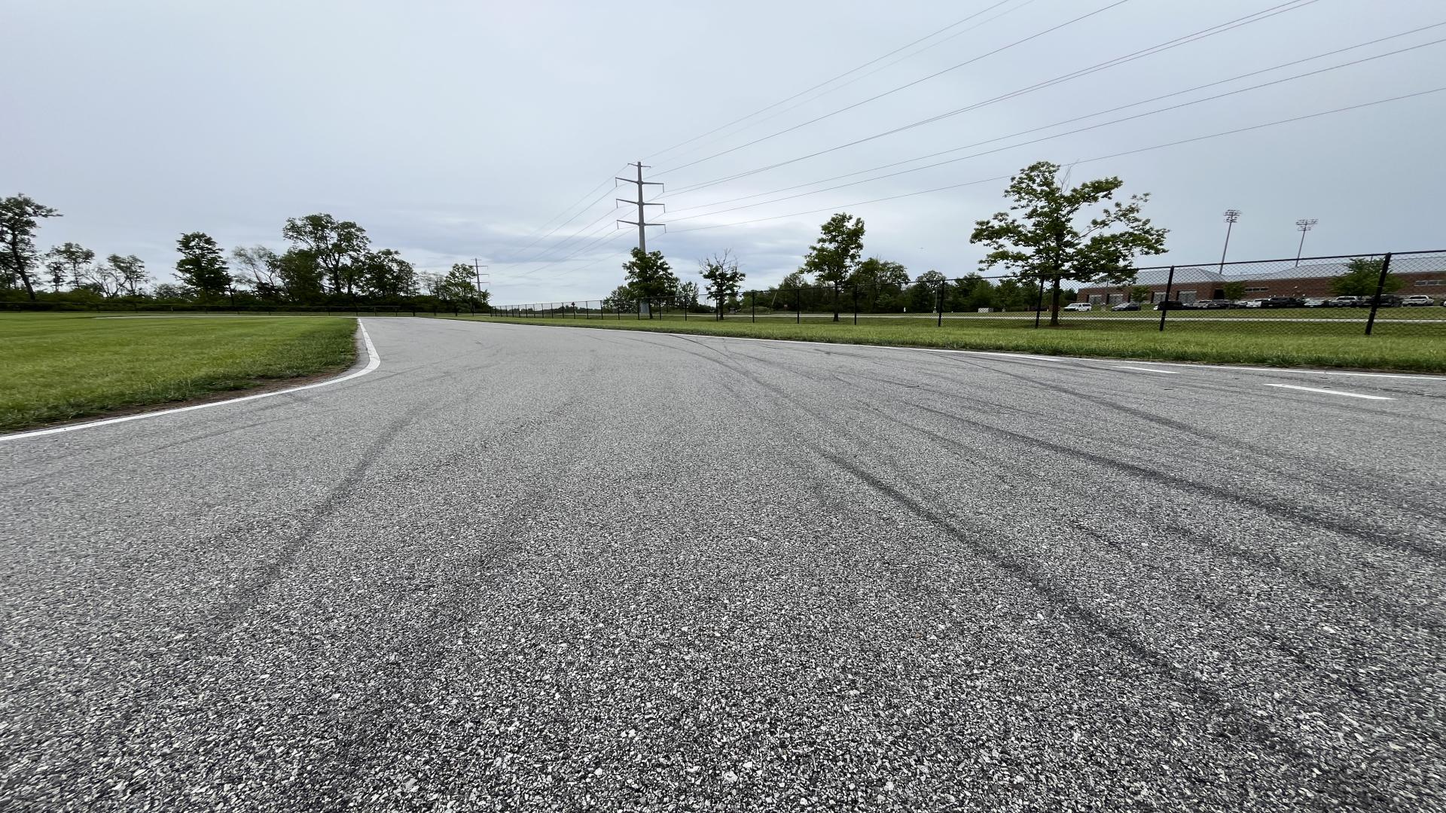white-line: (473, 322, 1445, 379), (0, 318, 380, 441), (1265, 383, 1398, 400), (1112, 367, 1181, 374)
